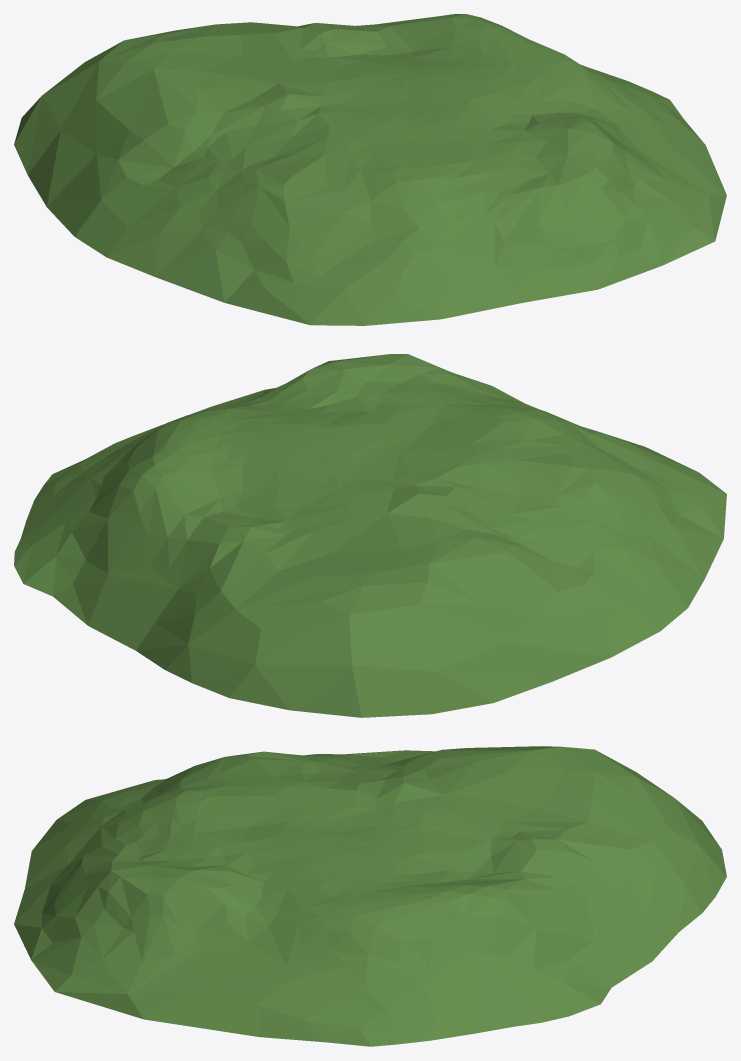
File: SM_Generic_Ground_04.glb
3 renders of one model, top to bottom at view 1: azimuth 30°, elevation 25°; view 2: azimuth 150°, elevation 25°; view 3: azimuth 270°, elevation 25°, orthographic. The views are drawn at different scales.
Visible parts, largest first — view 1: SM_Generic_Ground_04; view 2: SM_Generic_Ground_04; view 3: SM_Generic_Ground_04.
Boxes of the visible parts, left/top/right/bottom form: SM_Generic_Ground_04: left=14, top=14, right=726, bottom=325; SM_Generic_Ground_04: left=14, top=354, right=726, bottom=717; SM_Generic_Ground_04: left=14, top=746, right=726, bottom=1046.
Bounding box in the file's own units: 18.38 × 2.47 × 19.12.
Materials: 1 (1 with a texture image).
